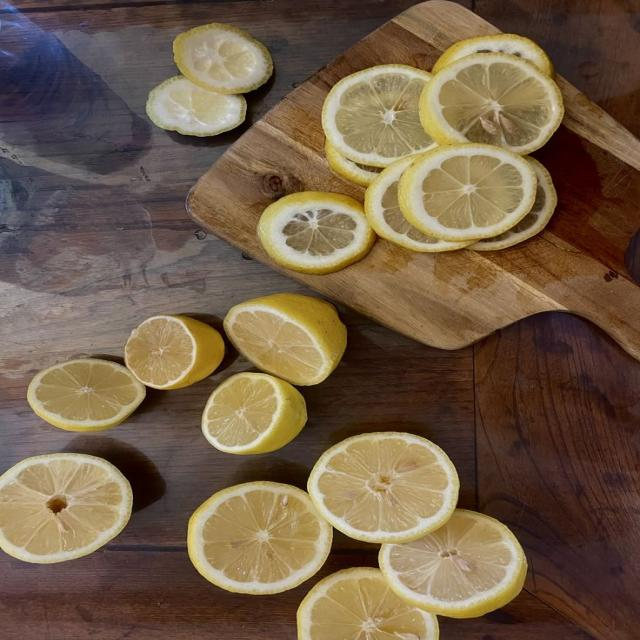lemon: (308, 433, 459, 542), (188, 482, 332, 594), (380, 510, 526, 617), (0, 454, 132, 563), (420, 54, 563, 154), (399, 144, 536, 241), (322, 65, 433, 166), (224, 294, 346, 385), (365, 156, 471, 252), (298, 568, 439, 639), (258, 192, 375, 274), (27, 359, 145, 432), (202, 373, 306, 453), (469, 158, 557, 250), (125, 316, 224, 389), (174, 23, 273, 94), (147, 76, 246, 136), (433, 34, 553, 77), (326, 143, 381, 186)
